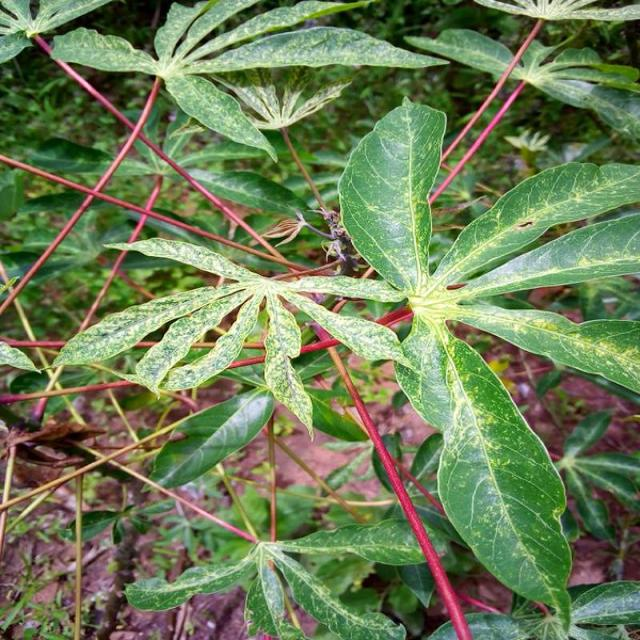cassava leaf: (54, 94, 639, 627), (434, 326, 574, 630), (338, 95, 448, 294)
